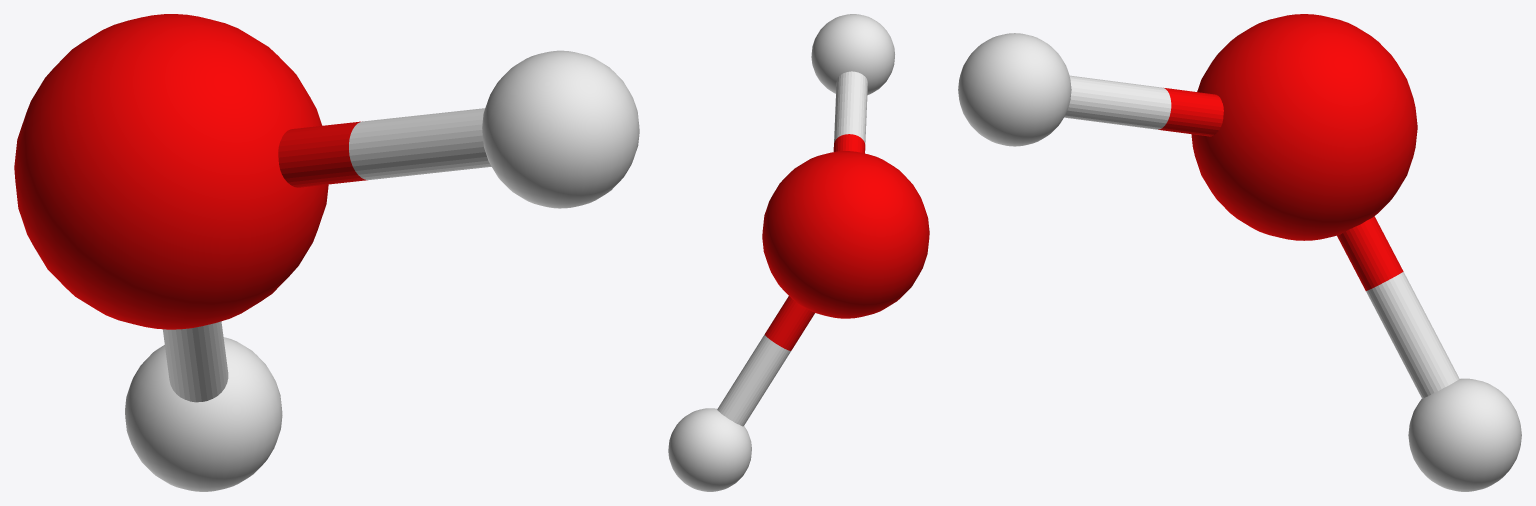
Rendered from water.glb.
The picture shows the model from 3 angles, left to right: view 1: azimuth 30°, elevation 25°; view 2: azimuth 150°, elevation 25°; view 3: azimuth 270°, elevation 25°; orthographic projection. The views are drawn at different scales.
Parts seen in each view (by area): view 1: O02, H03, H01, O02-H03, H01-O02; view 2: O02, H01, H03, H01-O02, O02-H03; view 3: O02, H03, H01, H01-O02, O02-H03.
Part boxes in pixels (<box>): O02: <box>14,14,328,329</box>; H03: <box>482,50,639,208</box>; H01: <box>125,337,282,491</box>; O02-H03: <box>278,108,491,187</box>; H01-O02: <box>163,321,228,402</box>; O02: <box>762,151,929,318</box>; H01: <box>668,408,751,491</box>; H03: <box>811,14,894,95</box>; H01-O02: <box>717,296,814,426</box>; O02-H03: <box>833,71,867,153</box>; O02: <box>1191,14,1417,240</box>; H03: <box>958,33,1071,146</box>; H01: <box>1408,378,1521,491</box>; H01-O02: <box>1337,216,1459,398</box>; O02-H03: <box>1064,75,1223,136</box>.
Bounding box in the file's own units: 0.9186 × 1.44 × 1.59.
